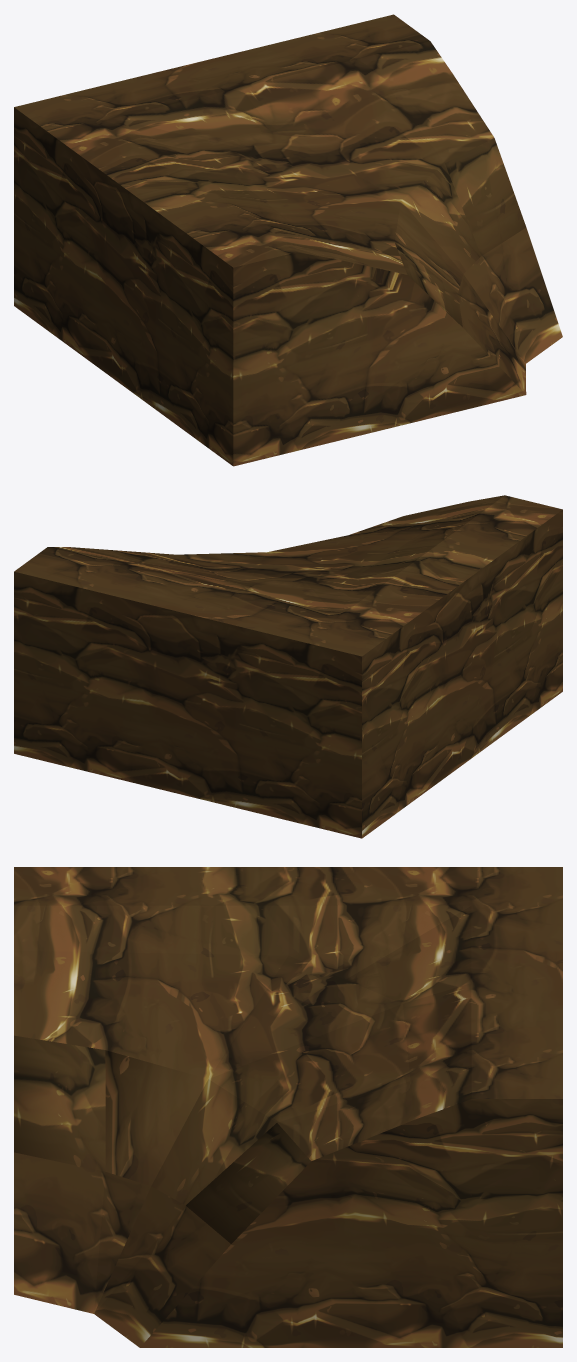
The model's file is Mountain_L_1x1x2.fbx.
3 renders of one model, top to bottom at view 1: azimuth 30°, elevation 25°; view 2: azimuth 150°, elevation 25°; view 3: azimuth 270°, elevation 25°, orthographic. The views are drawn at different scales.
Parts seen in each view (by area): view 1: Mountain_L_1x1x2; view 2: Mountain_L_1x1x2; view 3: Mountain_L_1x1x2.
Boxes of the visible parts, x1,y1,x2,y2 form: Mountain_L_1x1x2: (14, 14, 562, 466); Mountain_L_1x1x2: (14, 495, 562, 838); Mountain_L_1x1x2: (14, 867, 562, 1347).
Size of the model in its own units: 3 by 3 by 1.5.
